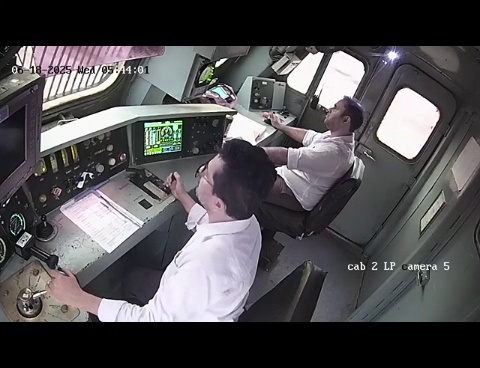brake_applied: (1, 258, 107, 320)
horn_inactive: (27, 212, 66, 248)
